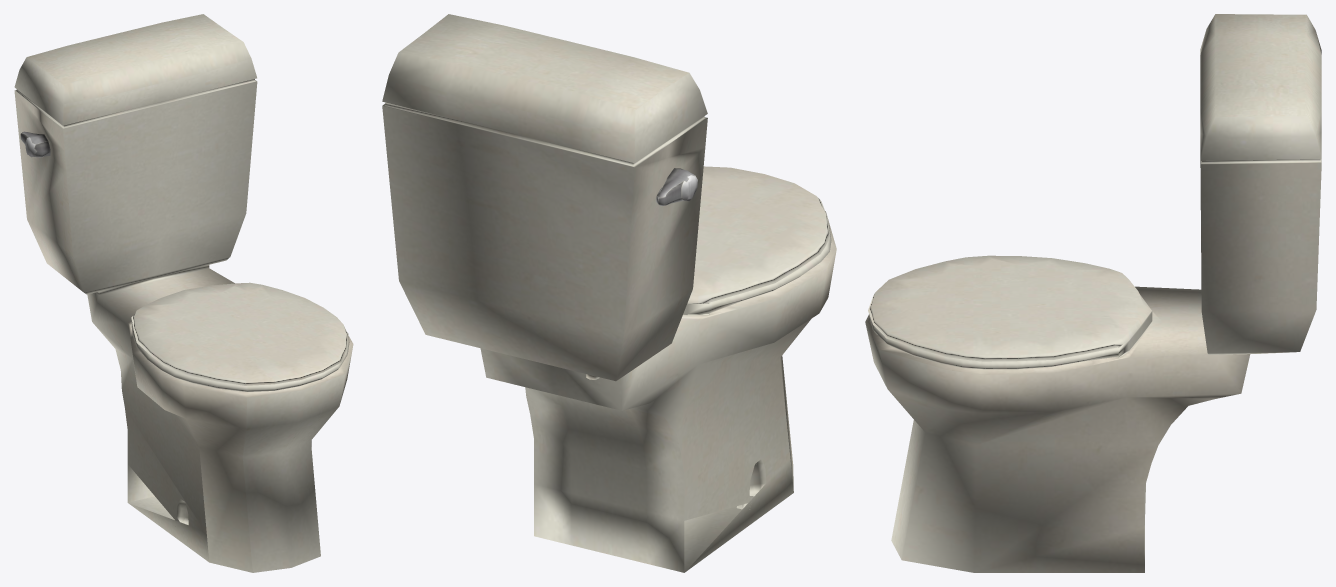
The model's file is Toilet.fbx.
The picture shows the model from 3 angles, left to right: view 1: azimuth 30°, elevation 25°; view 2: azimuth 150°, elevation 25°; view 3: azimuth 270°, elevation 25°; orthographic projection. The views are drawn at different scales.
Parts seen in each view (by area): view 1: pCube1; view 2: pCube1; view 3: pCube1.
Part boxes in pixels (box(x1,y1,x2,y2)): pCube1: box(14, 14, 353, 572); pCube1: box(382, 14, 836, 572); pCube1: box(865, 14, 1321, 572).
Size of the model in its own units: 3.04 by 5.71 by 4.93.
Materials: 1 (1 with a texture image).
